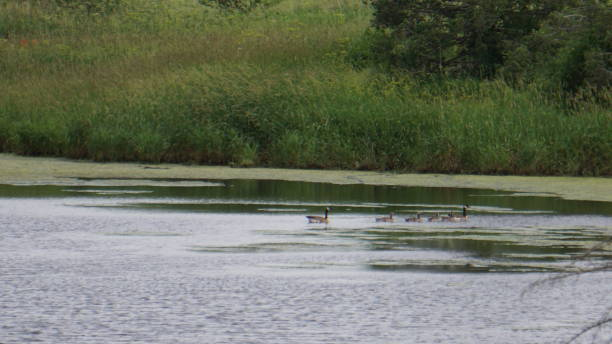goose: (305, 205, 332, 223), (446, 204, 472, 222), (375, 210, 398, 224), (404, 210, 423, 224), (427, 210, 444, 225)
